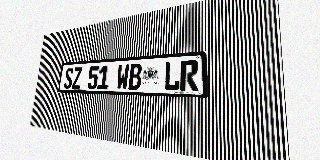1: (97, 66, 110, 89)
5: (87, 66, 99, 89)
B: (128, 64, 142, 90)
L: (164, 61, 180, 90)
R: (180, 60, 198, 91)
S: (63, 68, 74, 88)
W: (116, 64, 129, 89)
Z: (72, 67, 83, 89)
